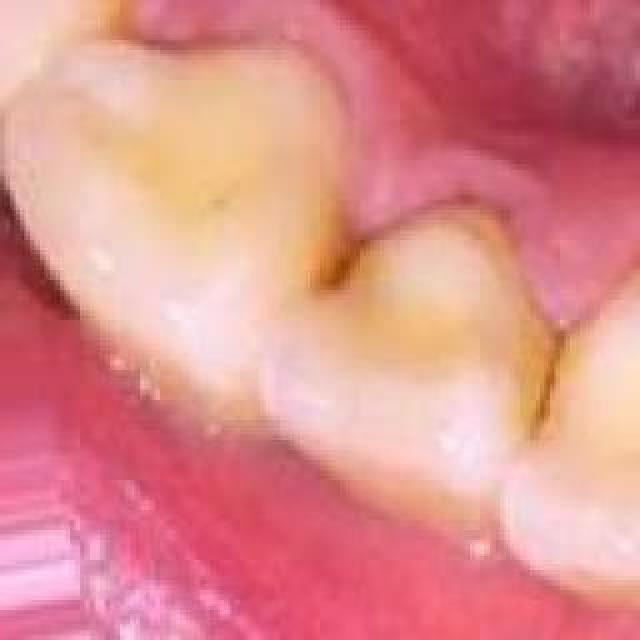stains: (290, 178, 412, 324), (489, 292, 595, 452)
